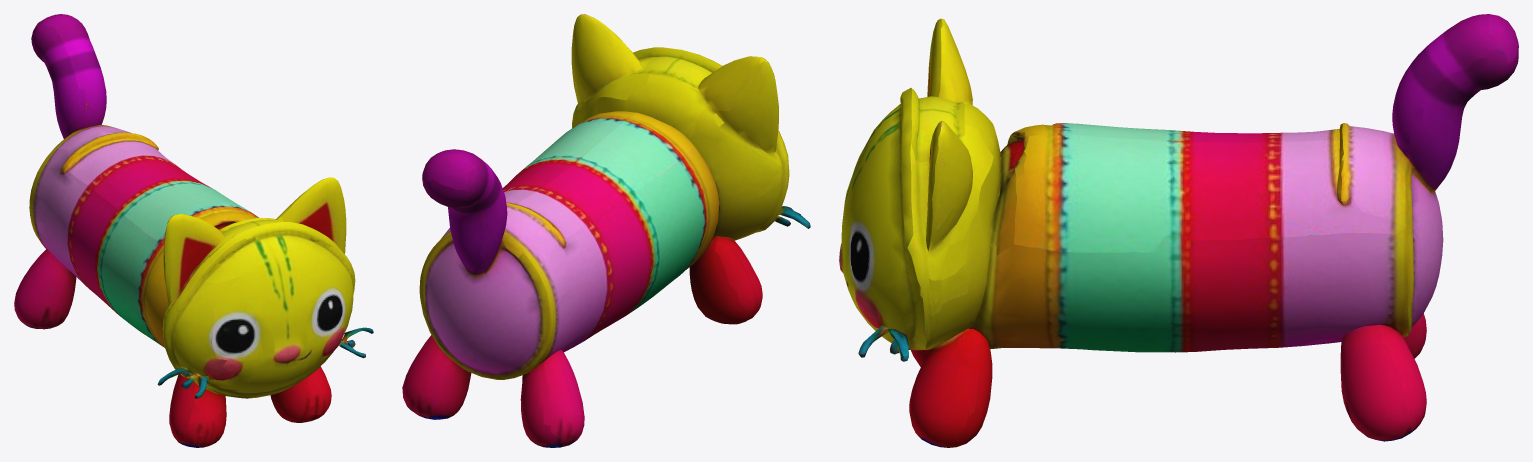
Rendered from pillow-cat.glb.
3 renders of one model, left to right at view 1: azimuth 30°, elevation 25°; view 2: azimuth 150°, elevation 25°; view 3: azimuth 270°, elevation 25°, orthographic. The views are drawn at different scales.
Visible parts, largest first — view 1: pillow-cat-ai-mesh; view 2: pillow-cat-ai-mesh; view 3: pillow-cat-ai-mesh.
Boxes of the visible parts, x1,y1,x2,y2 form: pillow-cat-ai-mesh: [14, 14, 373, 447]; pillow-cat-ai-mesh: [402, 14, 810, 447]; pillow-cat-ai-mesh: [839, 14, 1518, 447].
Bounding box in the file's own units: 0.8991 × 1.1 × 1.74.
Materials: 1 (1 with a texture image).
